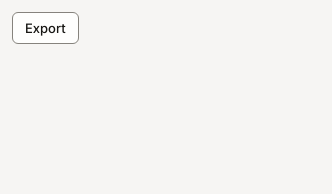
it: DS-CMP-28 › Up and Down wrap, destructive items sit last, type-ahead moves and Enter activates
This screenshot has width=332, height=194.
Press ArrowDown in the button "Export", box [12,12,79,44]
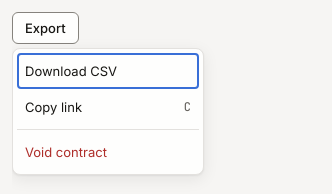
Result: the menu items read "Download CSV", "Copy linkC", "Void contract", in this order at [17,53,199,89]; [17,89,199,125]; [17,134,199,170]
Press ArrowUp in the menu, box [12,48,204,175]
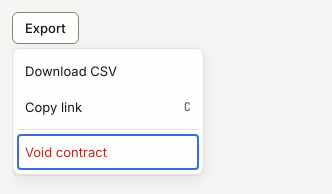
Press ArrowDown in the menu, box [12,48,204,175]
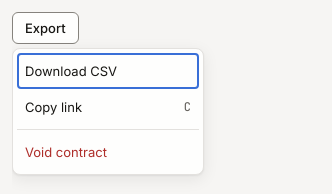
Press End in the menu, box [12,48,204,175]
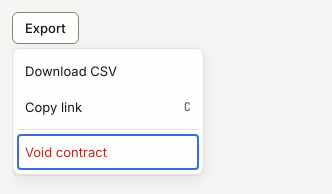
Press c in the menu, box [12,48,204,175]
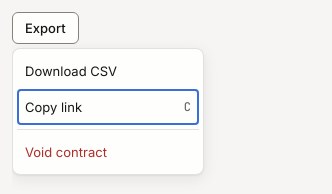
Click the menu item "Copy link C".
click(108, 107)  # box [17,89,199,125]
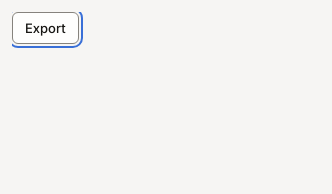
Result: the menu is gone
